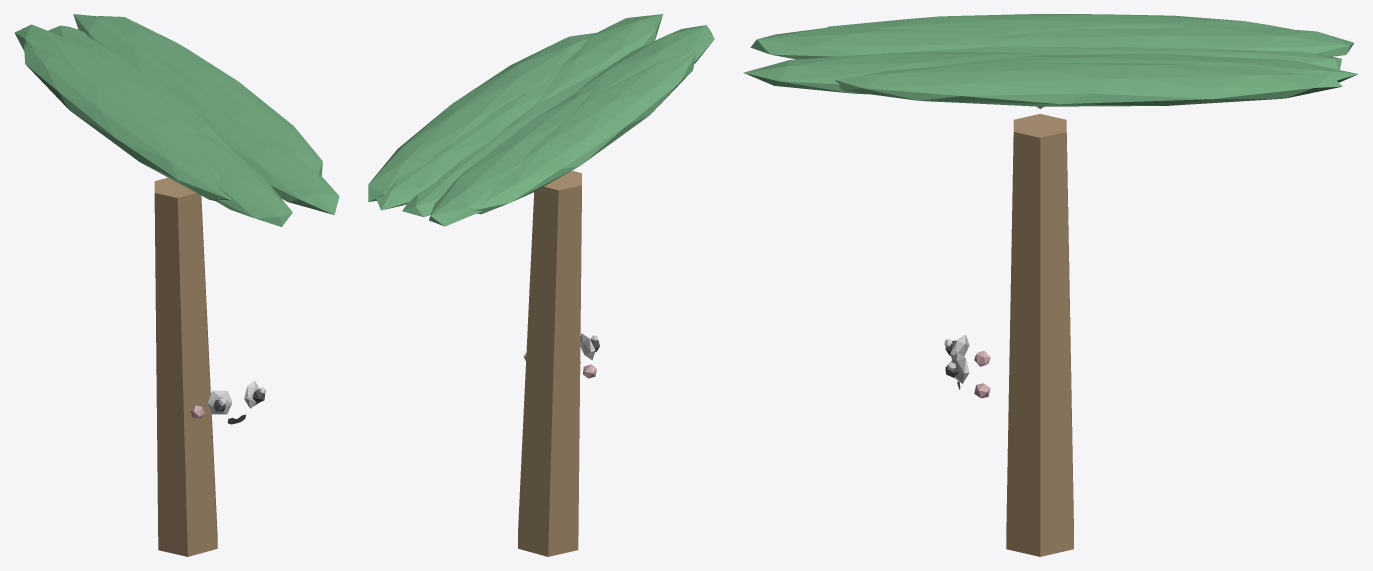
The model's file is roystonea-oleracea.glb.
3 renders of one model, left to right at view 1: azimuth 30°, elevation 25°; view 2: azimuth 150°, elevation 25°; view 3: azimuth 270°, elevation 25°, orthographic. The views are drawn at different scales.
Visible parts, largest first — view 1: trunk, frond3, frond0, frond1, frond4, frond2, frond6, frond5; view 2: trunk, frond3, frond0, frond4, frond6, frond1, frond2, frond5; view 3: trunk, frond0, frond4, frond2, frond3, frond1, frond6, frond5.
Boxes of the visible parts, <box> form: trunk: <box>154,177,217,556</box>; frond3: <box>24,44,230,201</box>; frond0: <box>95,16,322,175</box>; frond1: <box>190,107,339,214</box>; frond4: <box>14,24,201,134</box>; frond2: <box>171,124,292,226</box>; frond6: <box>73,14,259,137</box>; frond5: <box>48,25,249,166</box>; trunk: <box>518,170,581,556</box>; frond3: <box>472,52,696,214</box>; frond0: <box>368,32,598,201</box>; frond4: <box>429,89,592,226</box>; frond6: <box>376,64,563,210</box>; frond1: <box>534,14,662,105</box>; frond2: <box>579,25,714,101</box>; frond5: <box>402,60,618,217</box>; trunk: <box>1006,114,1073,556</box>; frond0: <box>834,61,1342,106</box>; frond4: <box>985,25,1353,56</box>; frond2: <box>750,25,1018,59</box>; frond3: <box>827,14,1292,33</box>; frond1: <box>743,52,1052,94</box>; frond6: <box>941,53,1358,82</box>; frond5: <box>895,46,1341,69</box>.
Size of the model in its own units: 0.2306 by 0.6296 by 0.7075.
